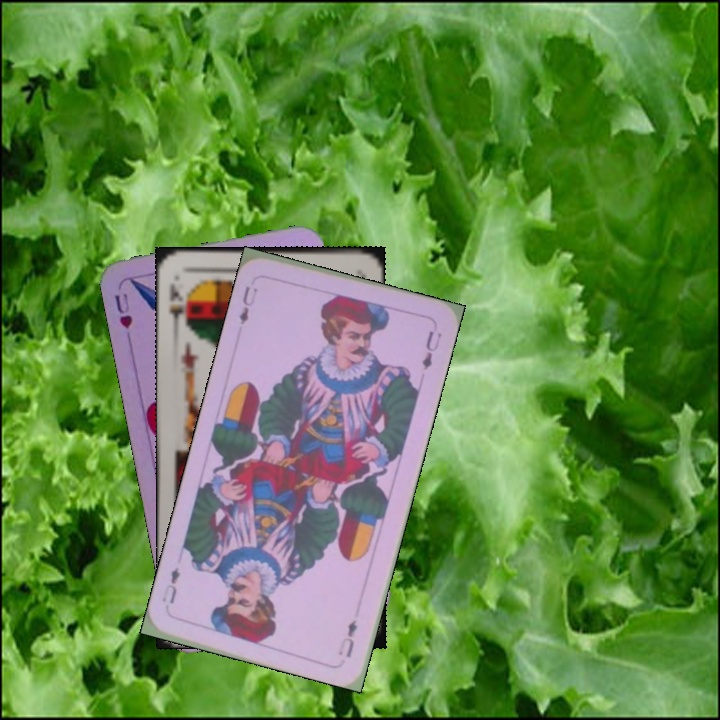EU: (234, 282, 260, 327), (334, 615, 360, 660)
HU: (110, 289, 135, 331)
SK: (165, 279, 190, 332)
